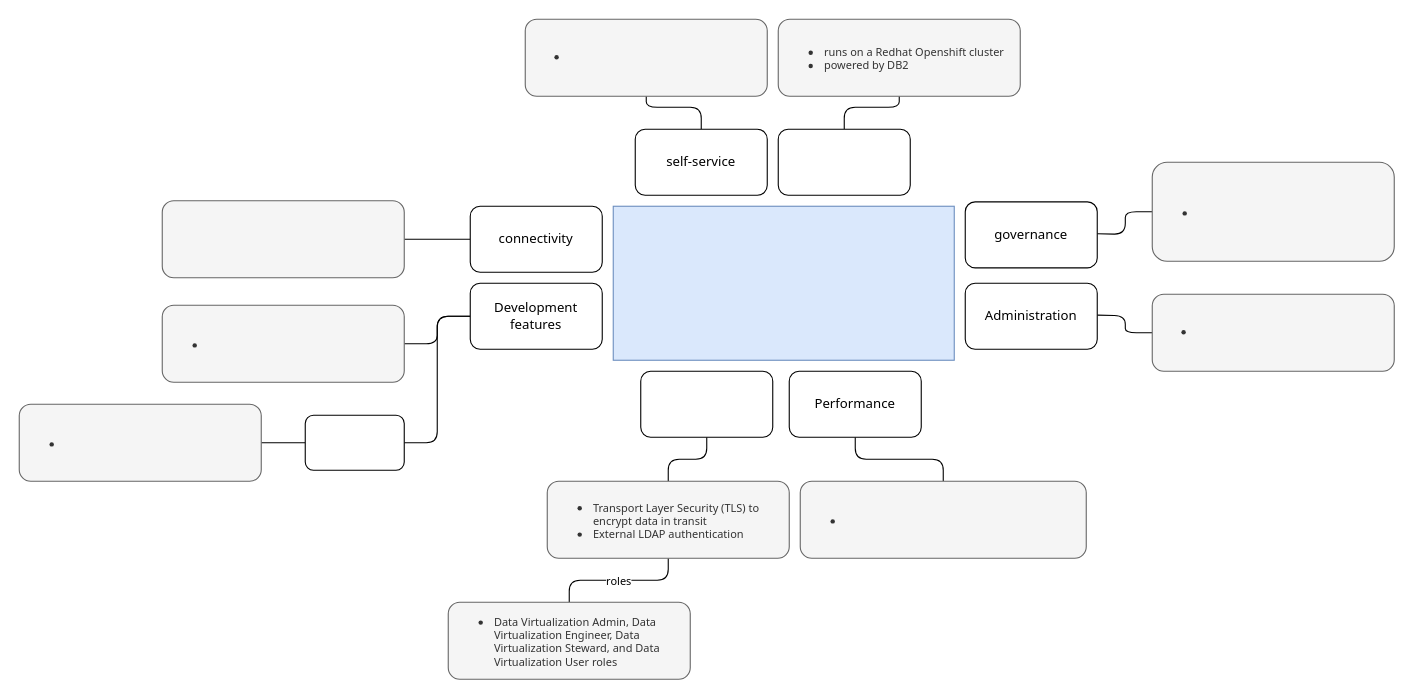
Image size: 1414x699. Some labels were removed from this diagram. The box of each missing label's shape, as (x1, y1, x2, y2) in pixels:
Data Discovery: (304, 414, 404, 470)
Data Virtualization REST API JDBC/ODBC: (161, 200, 404, 278)
deployment model: (777, 128, 910, 195)
IBM Cloud Pak for Data - Data virtualization: (612, 205, 954, 360)
Security: (640, 370, 773, 437)
